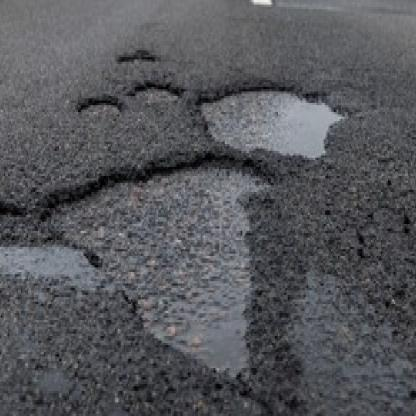pothole: (49, 153, 274, 386), (194, 80, 347, 165), (75, 91, 121, 128), (127, 80, 184, 105), (0, 194, 24, 231), (118, 53, 157, 69)
